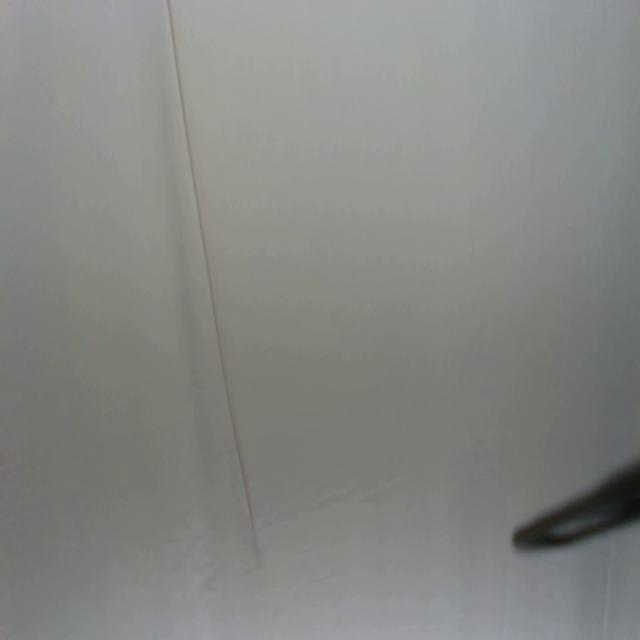crease: (165, 0, 261, 566), (602, 525, 617, 636)
